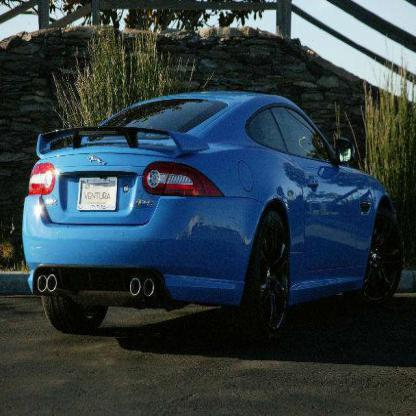Vehicle: (22, 91, 403, 342)
